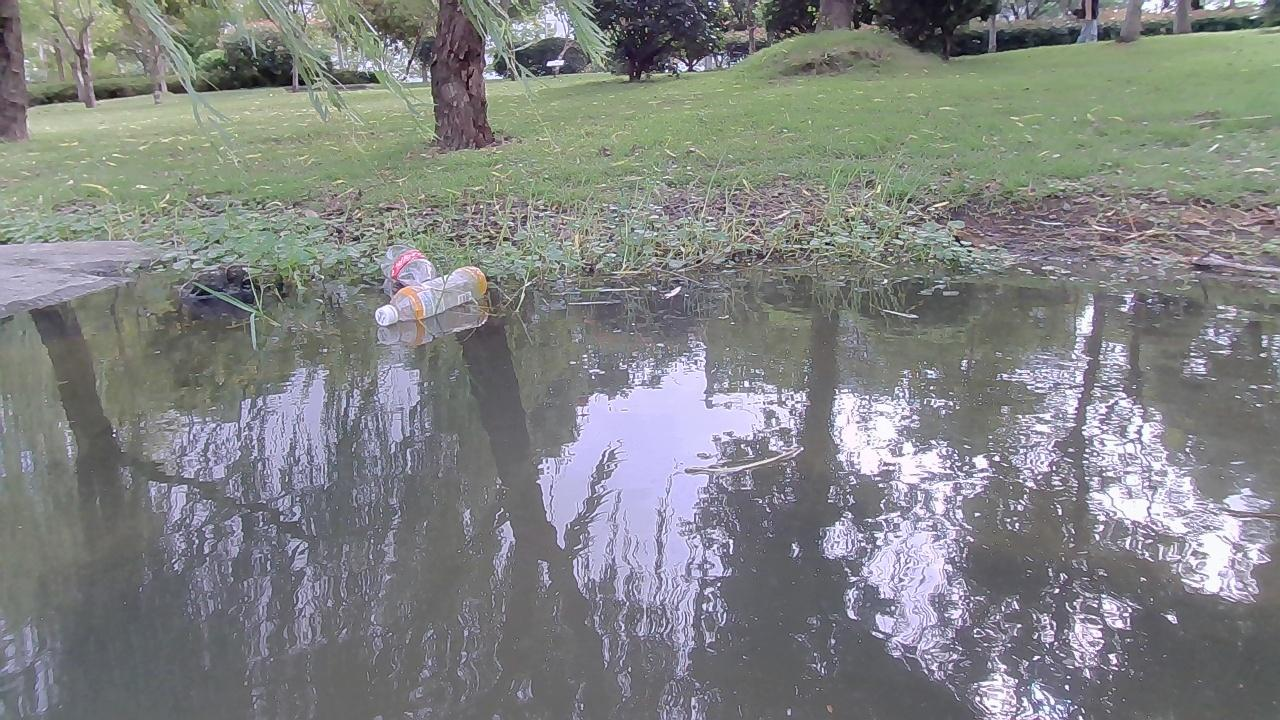bottle: (371, 265, 494, 327), (385, 234, 440, 292)
